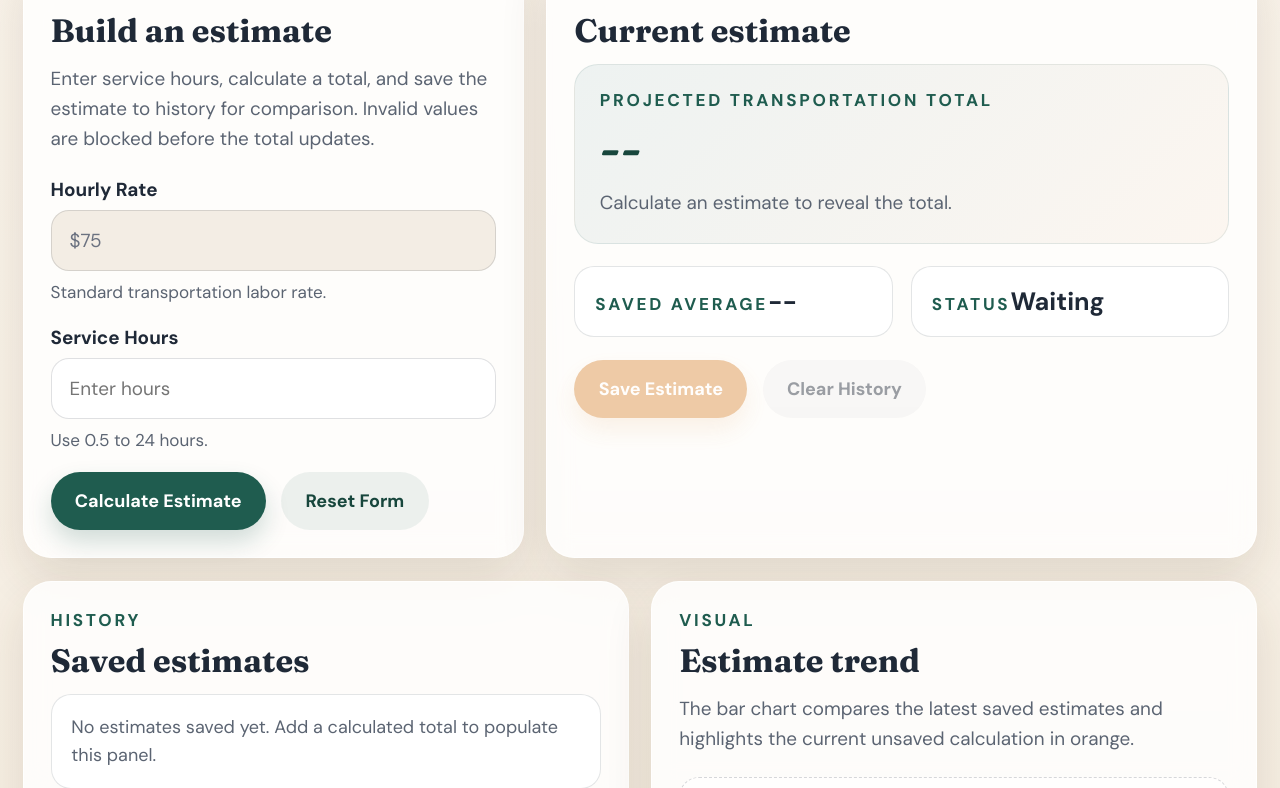
Test case: clears a stale total when the input changes after calculation
(page scrolled)
Type "2" into the number field labelled "Service Hours" at x=273, y=388, box [50,358,496,419]
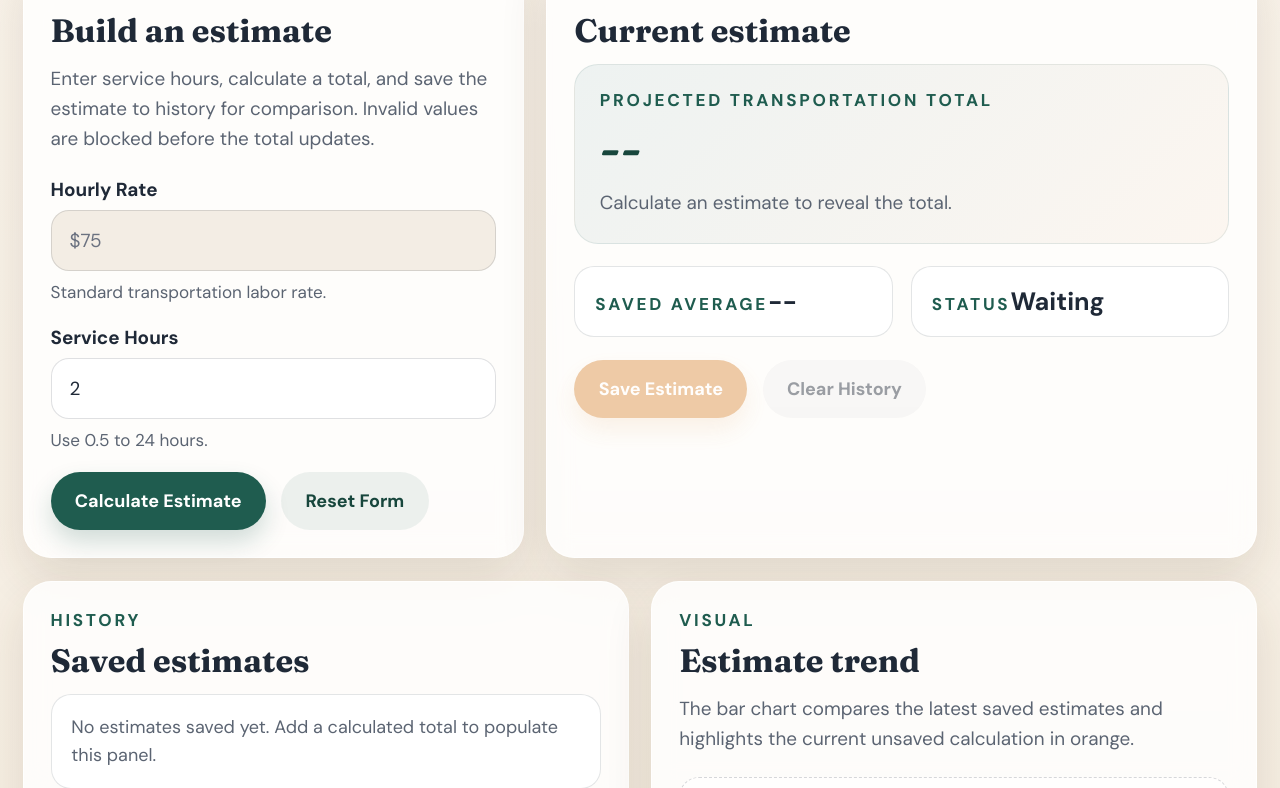
Click the button "Calculate Estimate" at x=158, y=501, box [50,472,266,530]
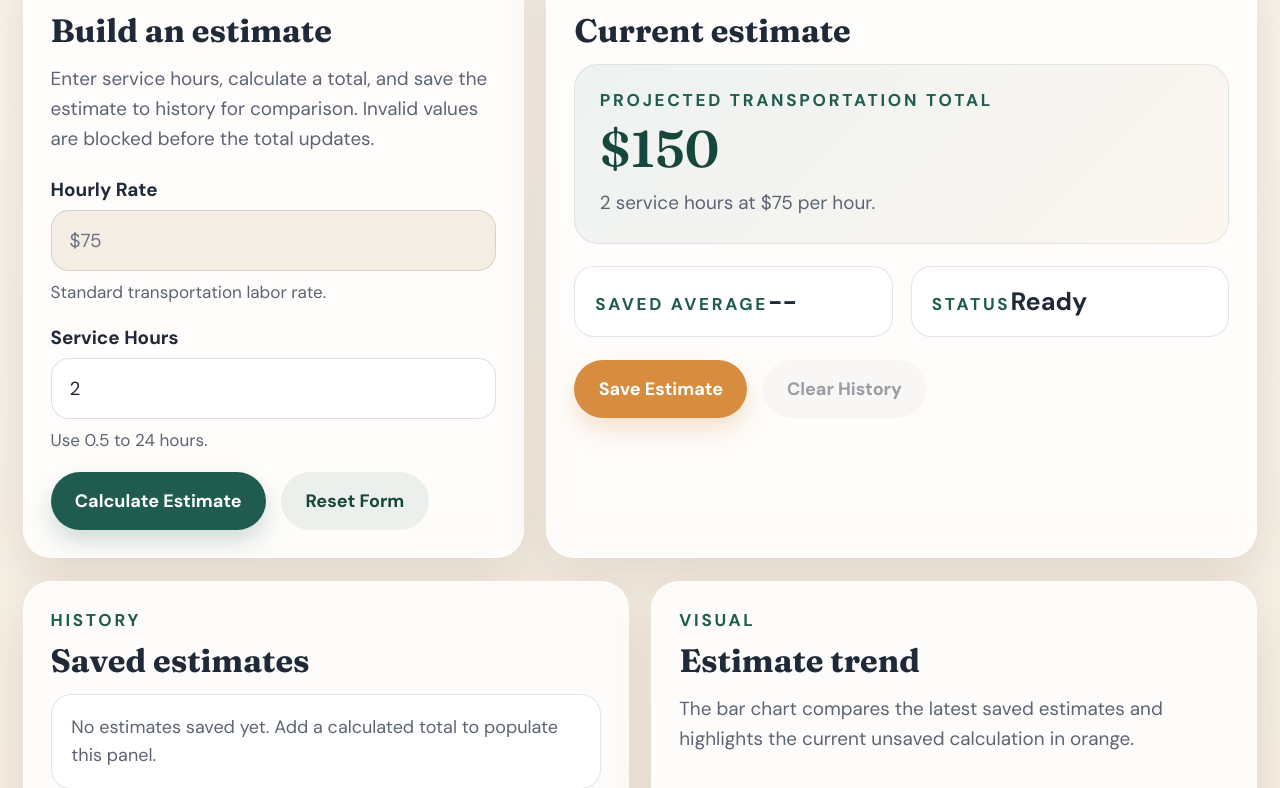
Expected: the text "$150" is shown, [600,117,719,180]
Replace the text in the number field labelled "Service Hours" with "5" at x=273, y=388, box [50,358,496,419]
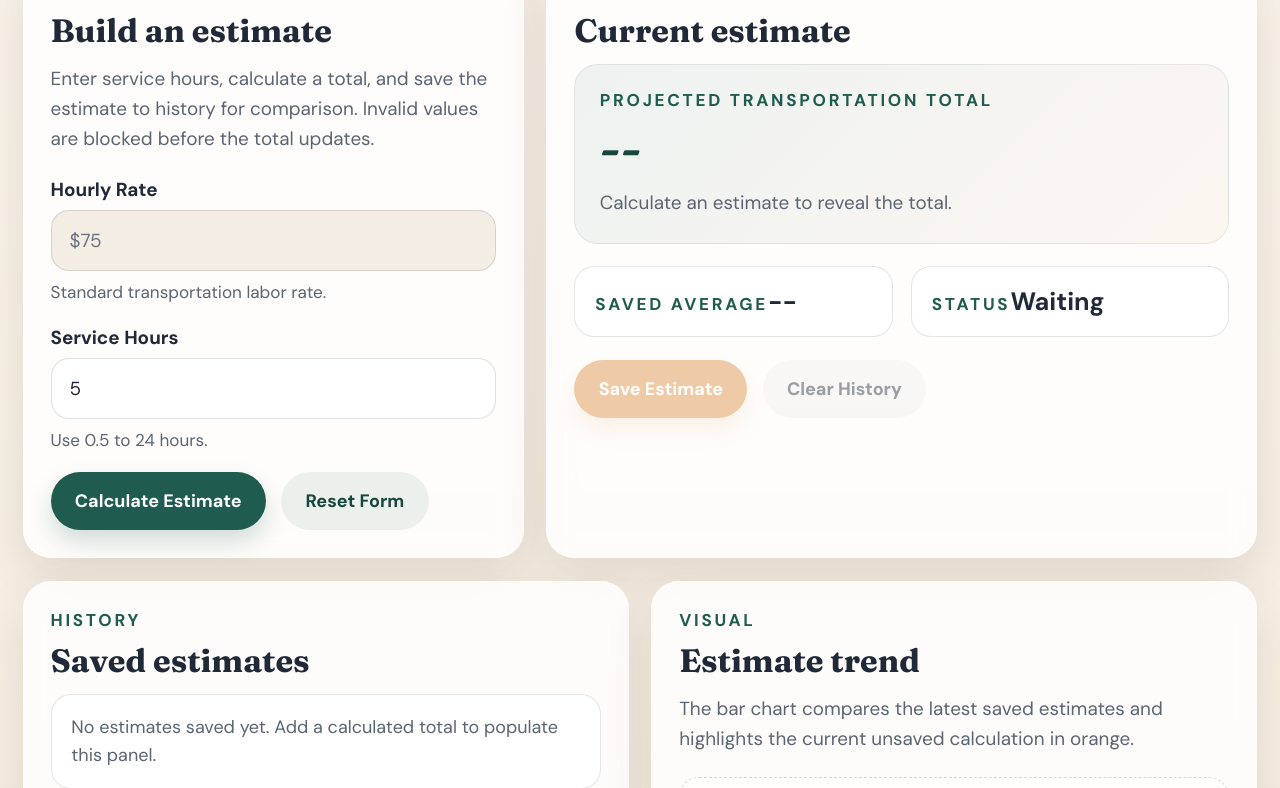
Expected: the text "$150" is gone
